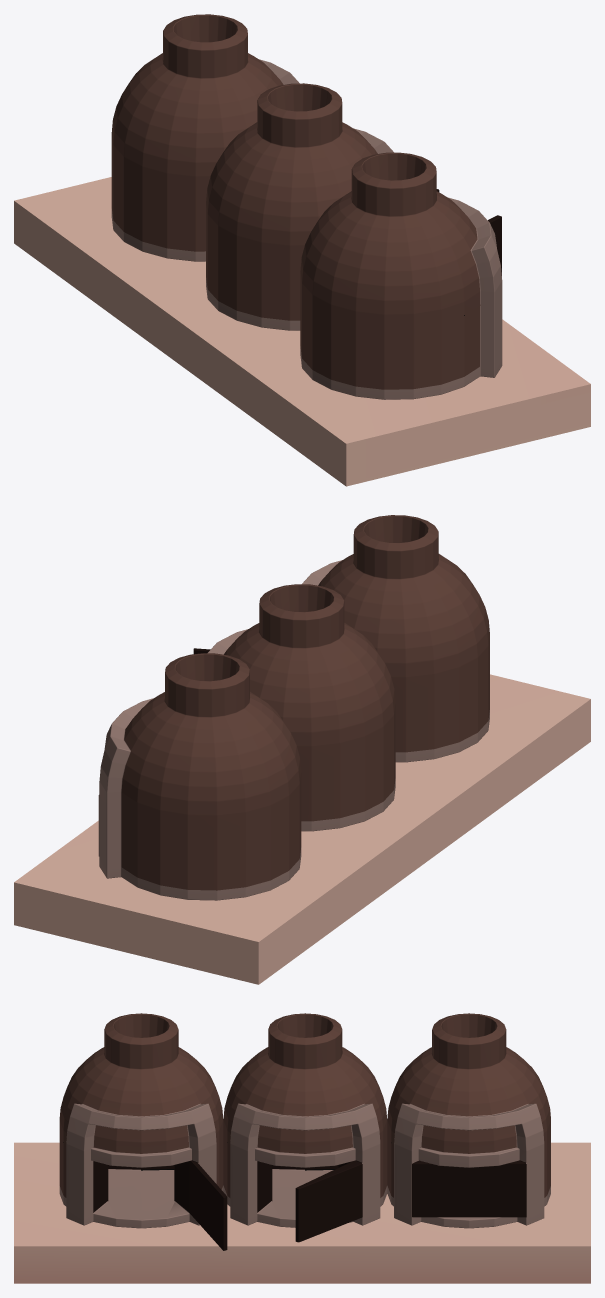
File: Oven.fbx
3 views of the same model, one above another, from view 1: azimuth 30°, elevation 25°; view 2: azimuth 150°, elevation 25°; view 3: azimuth 270°, elevation 25° (orthographic). The views are drawn at different scales.
Visible parts, largest first — view 1: Oven3; view 2: Oven3; view 3: Oven3.
Part boxes in pixels (left/top/right/bottom): Oven3: left=14, top=14, right=590, bottom=486; Oven3: left=14, top=515, right=590, bottom=984; Oven3: left=14, top=1013, right=590, bottom=1283.
Size of the model in its own units: 3.38 by 2.76 by 7.04.
